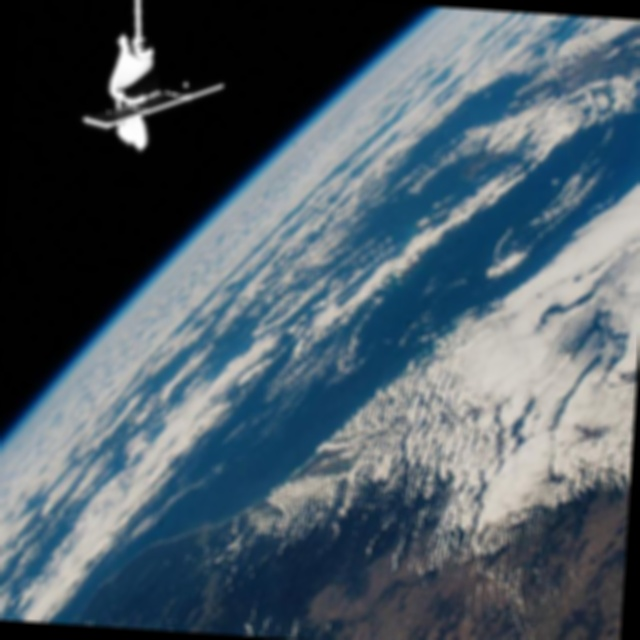satellite: (75, 14, 233, 162)
